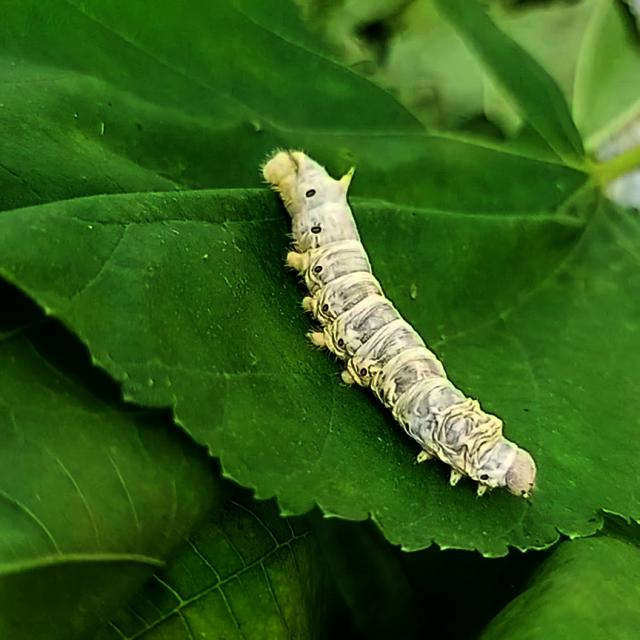Grasserie: (250, 138, 540, 502)
